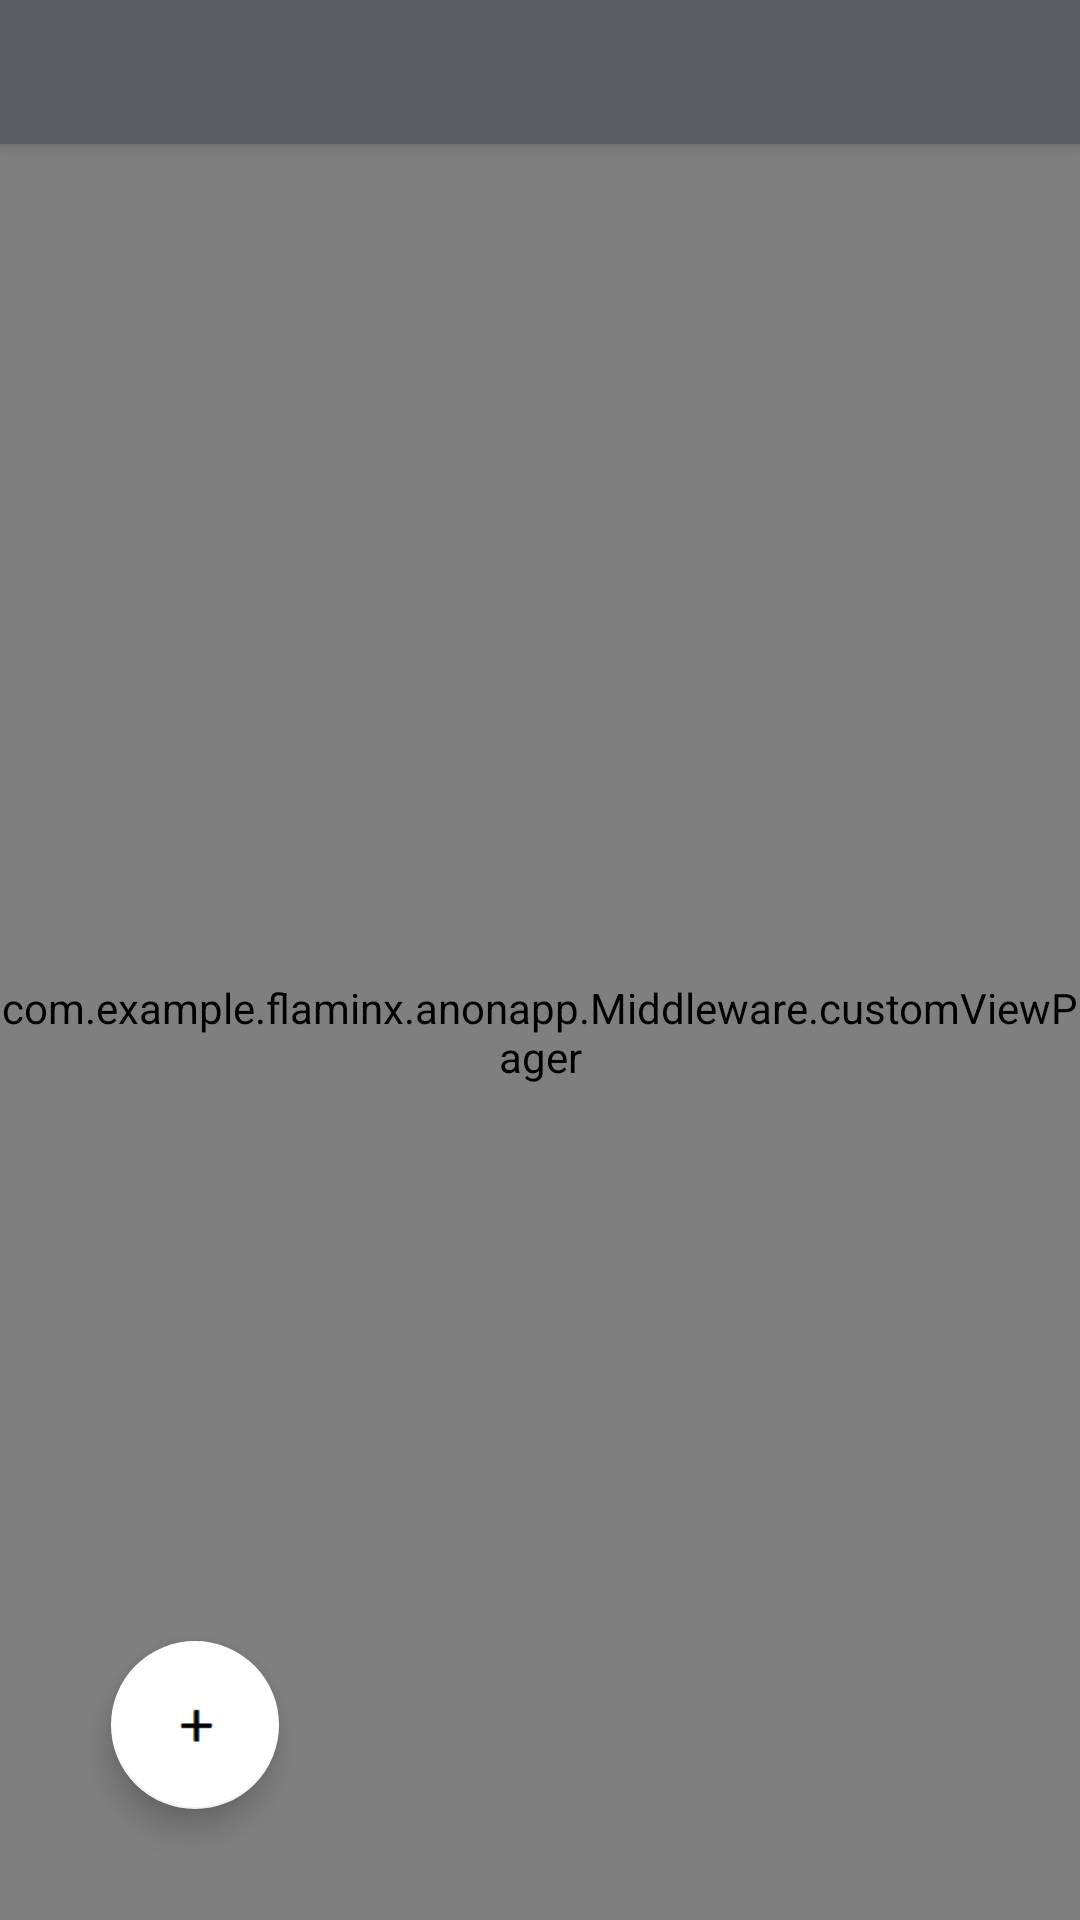

Screen size 1080w x 1920h. Icon name, then its center in pixels as (x,y):
addpost: (195,1725)
